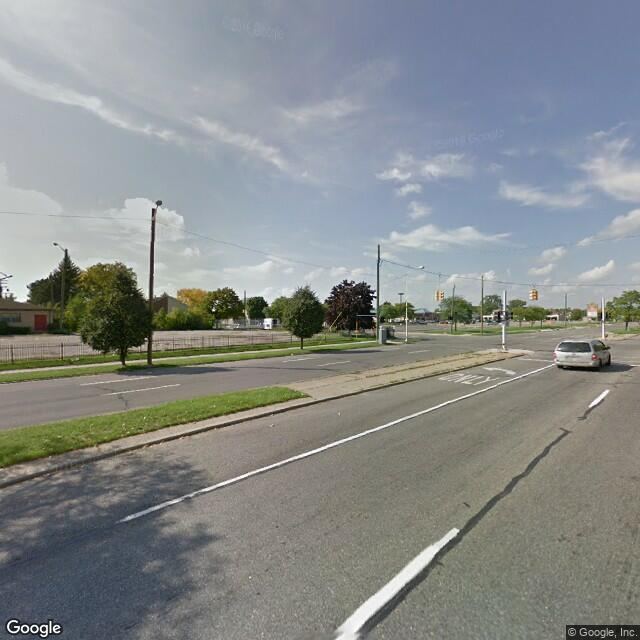litter: (69, 356, 80, 362), (289, 351, 296, 354)
